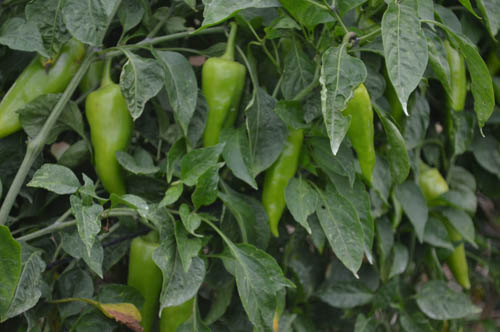ChiliPepper: (1, 44, 79, 131), (420, 170, 470, 286), (85, 87, 129, 197), (198, 59, 244, 157), (265, 124, 303, 241), (339, 85, 376, 183), (126, 238, 158, 328), (440, 42, 467, 138)
